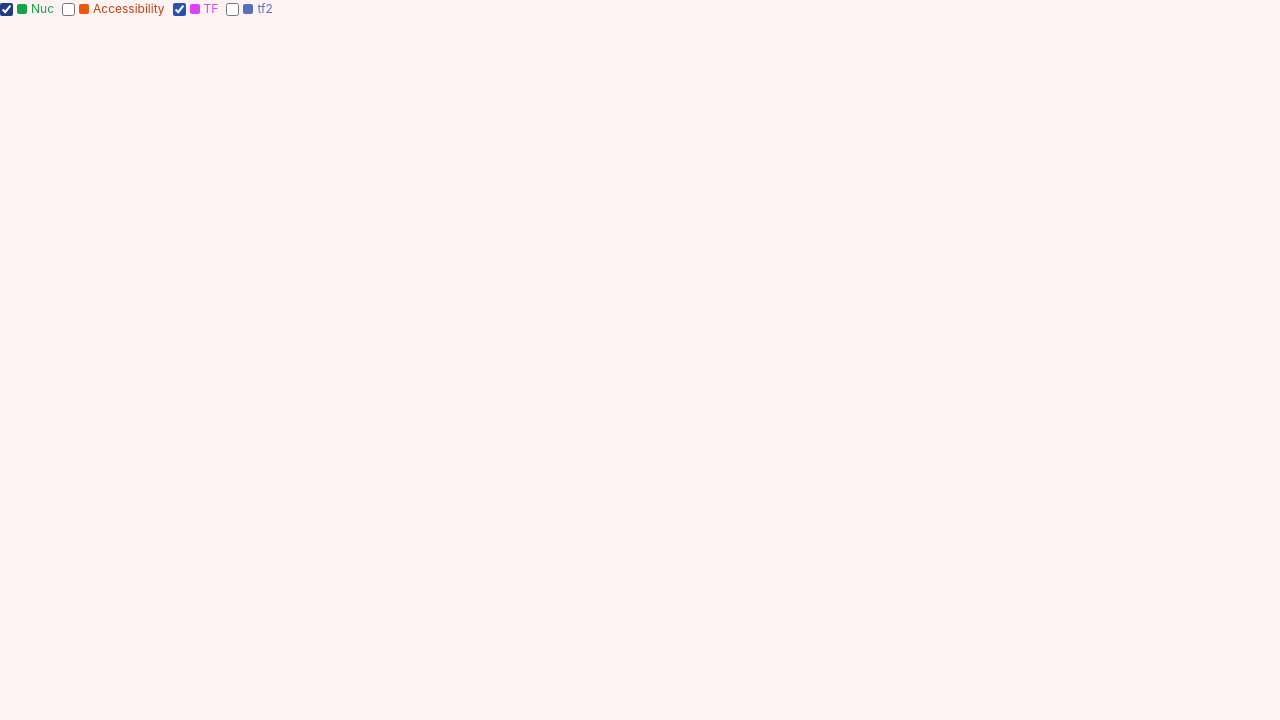
Test: Labels → Layer colours › a layer toggle's right-click opens "Change colour…" with the same picker
Later steps or results of the test are not shown.
Right-click the label "Nuc": (27, 9) [0,0,54,18]
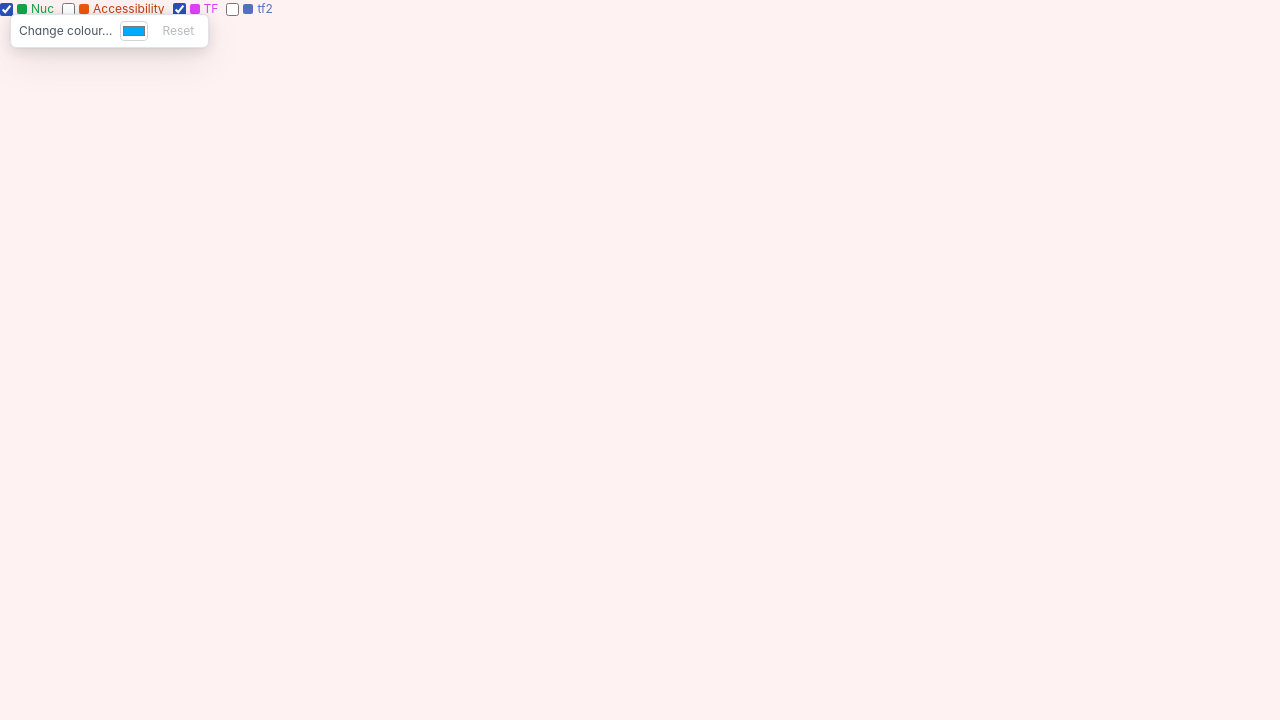
Check: the colour field with test id "layer-colour-menu-input" is shown, box [120,21,148,41]
